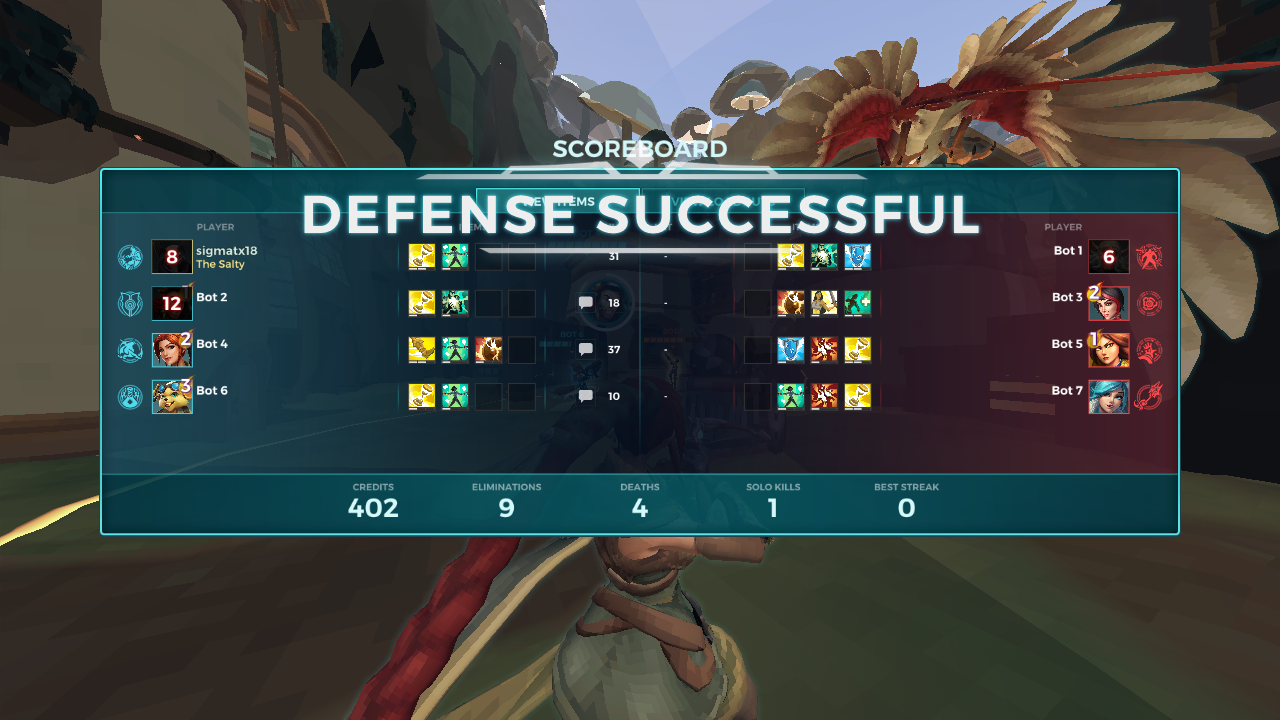model: (668, 354, 680, 385)
